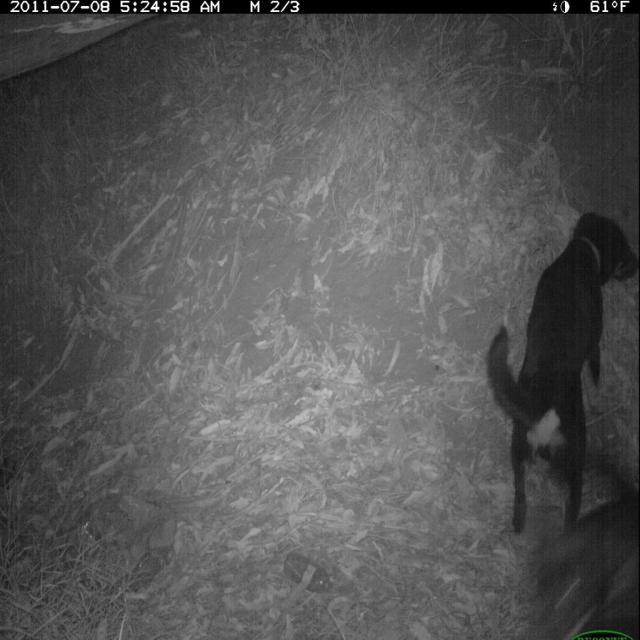dog: (485, 204, 640, 540)
